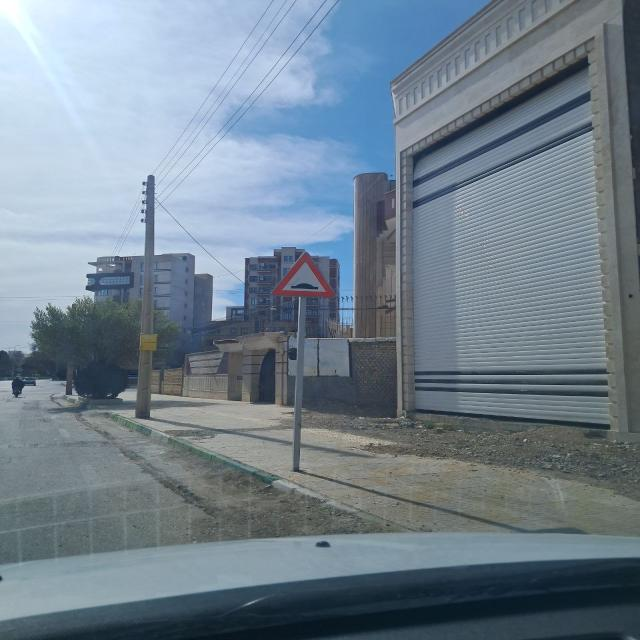road bump ahead: (274, 252, 338, 298)
